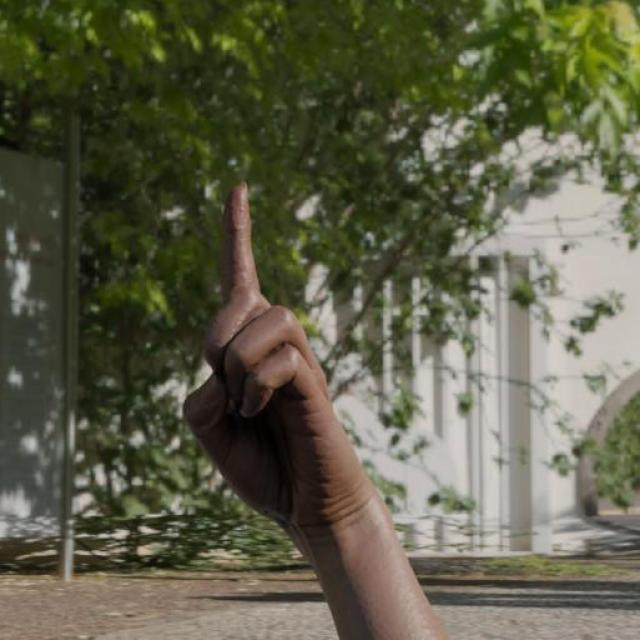D: (178, 176, 387, 533)
